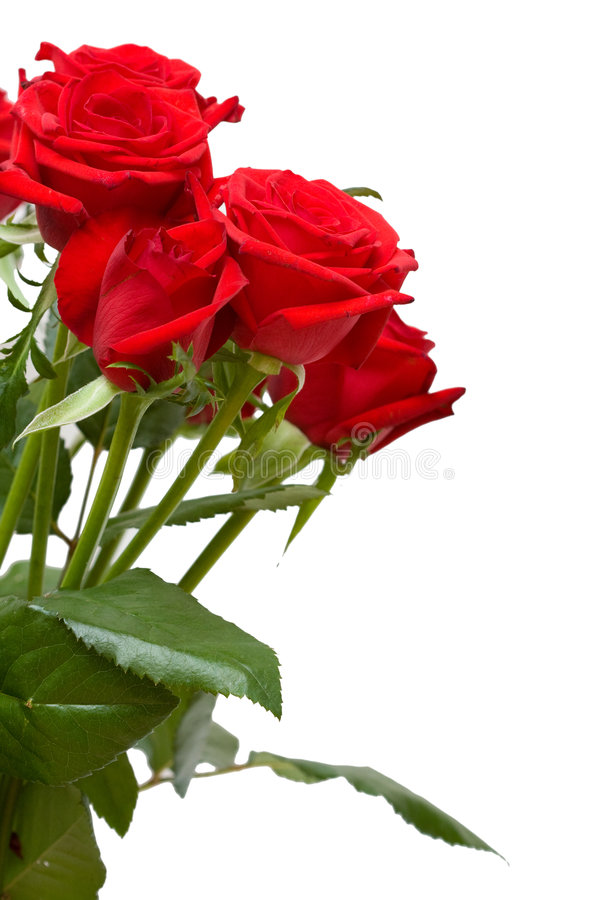RedRose: (171, 125, 411, 332), (0, 31, 221, 221), (234, 271, 444, 428), (68, 199, 219, 365)
